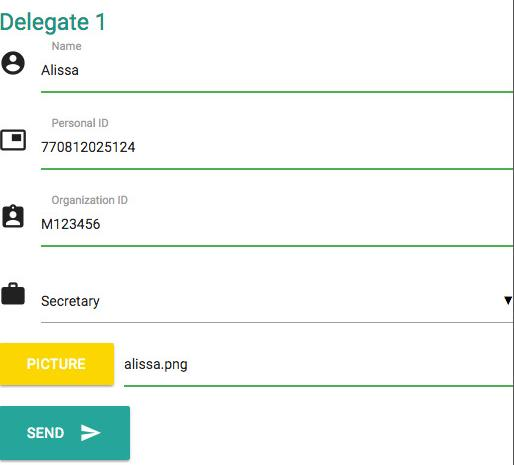button: (0, 404, 133, 462), (0, 339, 117, 389)
